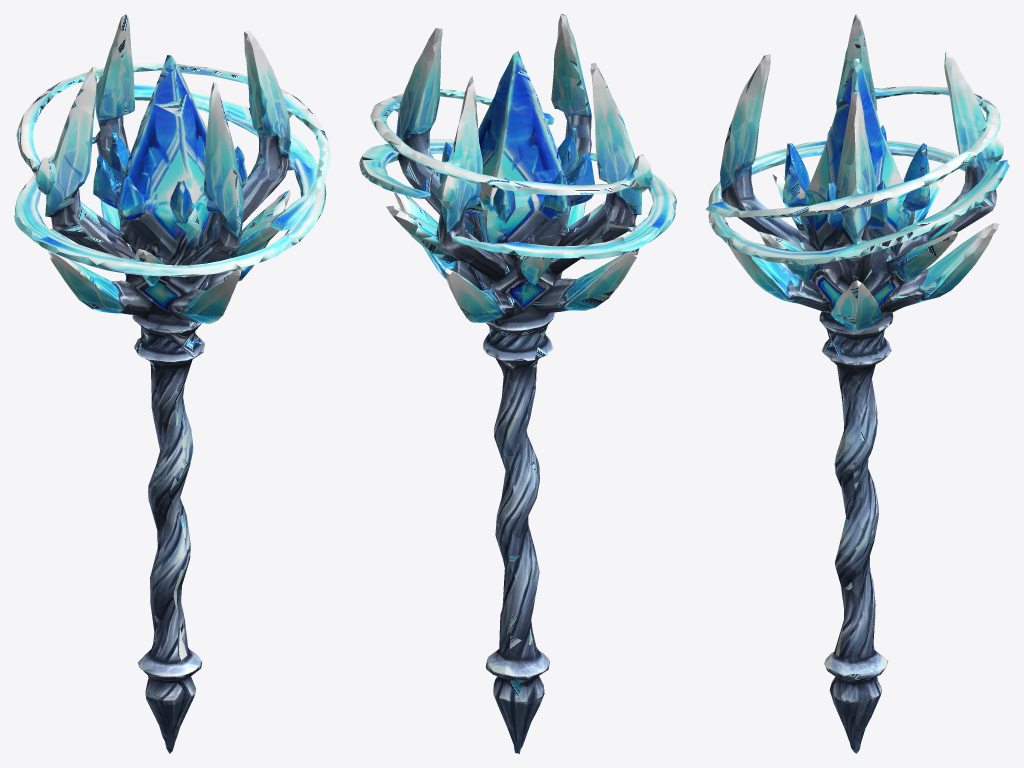
The model's file is staff-ice.glb.
3 views of the same model, side by side, from view 1: azimuth 30°, elevation 25°; view 2: azimuth 150°, elevation 25°; view 3: azimuth 270°, elevation 25° (orthographic).
Visible parts, largest first — view 1: staff; view 2: staff; view 3: staff.
Boxes of the visible parts, x1,y1,x2,y2 form: staff: (14,14,330,753); staff: (359,14,676,753); staff: (705,14,1009,753).
Bounding box in the file's own units: 0.862 × 2.1 × 0.8246.
1 material, 1 textured.
